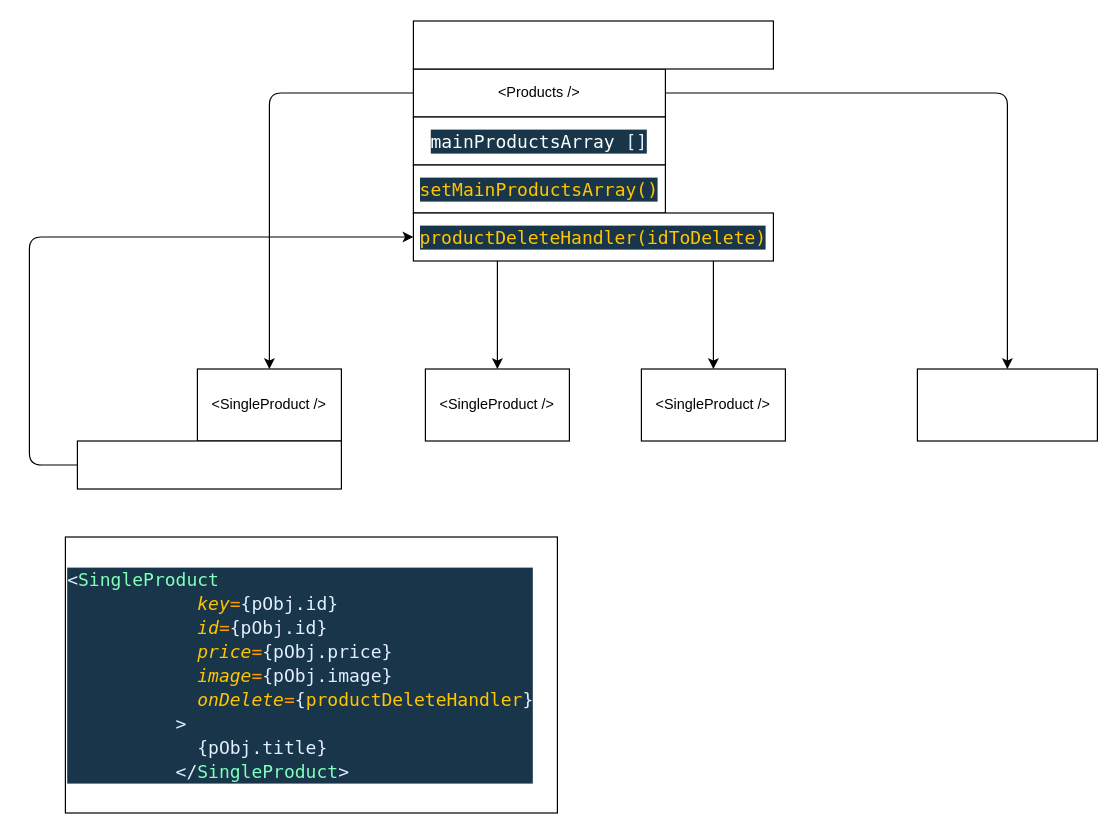
Image size: 1118x834. Some labels were removed from this diagram. The centre of each missing label's shape, as x and y in pixels:
< AddProduct />: point (1006, 404)
< button > delete </ button >: point (208, 464)
productAddHandler(newProdObj): point (592, 44)
